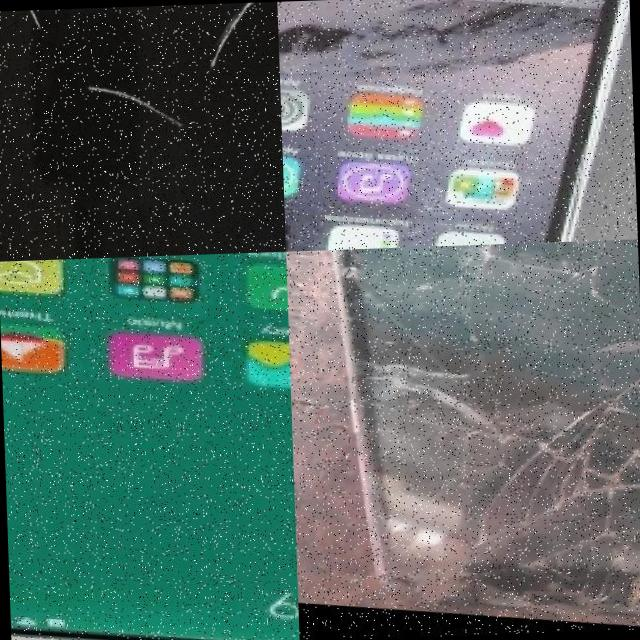scratch: (78, 76, 188, 154), (208, 1, 279, 76)
screen crack: (295, 238, 640, 640)
